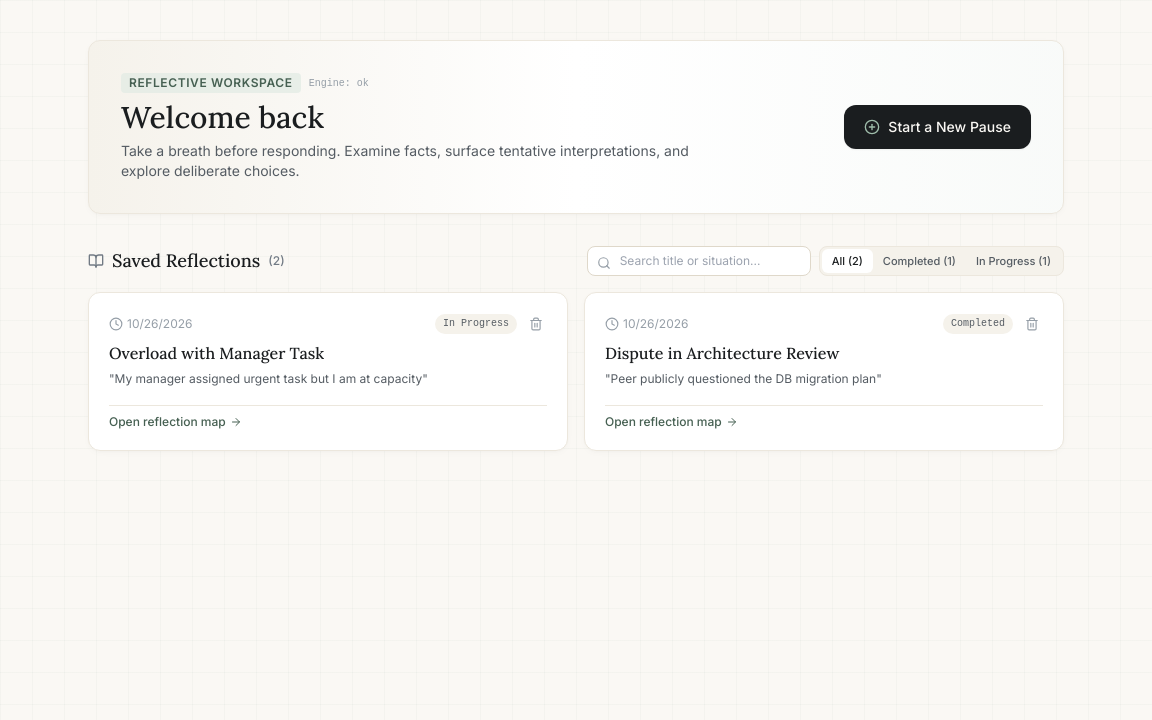
Test case: DashboardPage › filters reflections by status tab
Check: the heading "Overload with Manager Task" is shown, box [109,343,324,363]
# Filter by completed
Click the button "Completed (1)" at (919, 261), box [873,249,966,273]
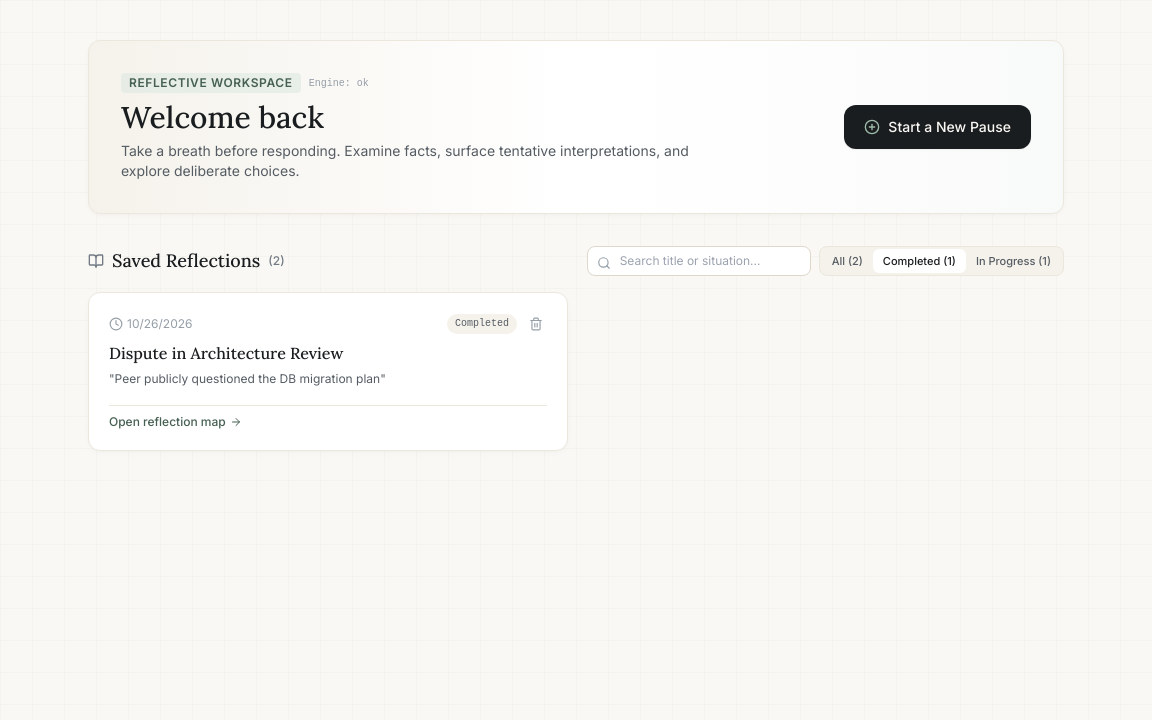
Check: the heading "Dispute in Architecture Review" is shown, box [109,343,343,363]
Check: the heading "Overload with Manager Task" is gone
# Filter by in progress
Click the button "In Progress (1)" at (1013, 261), box [966,249,1061,273]
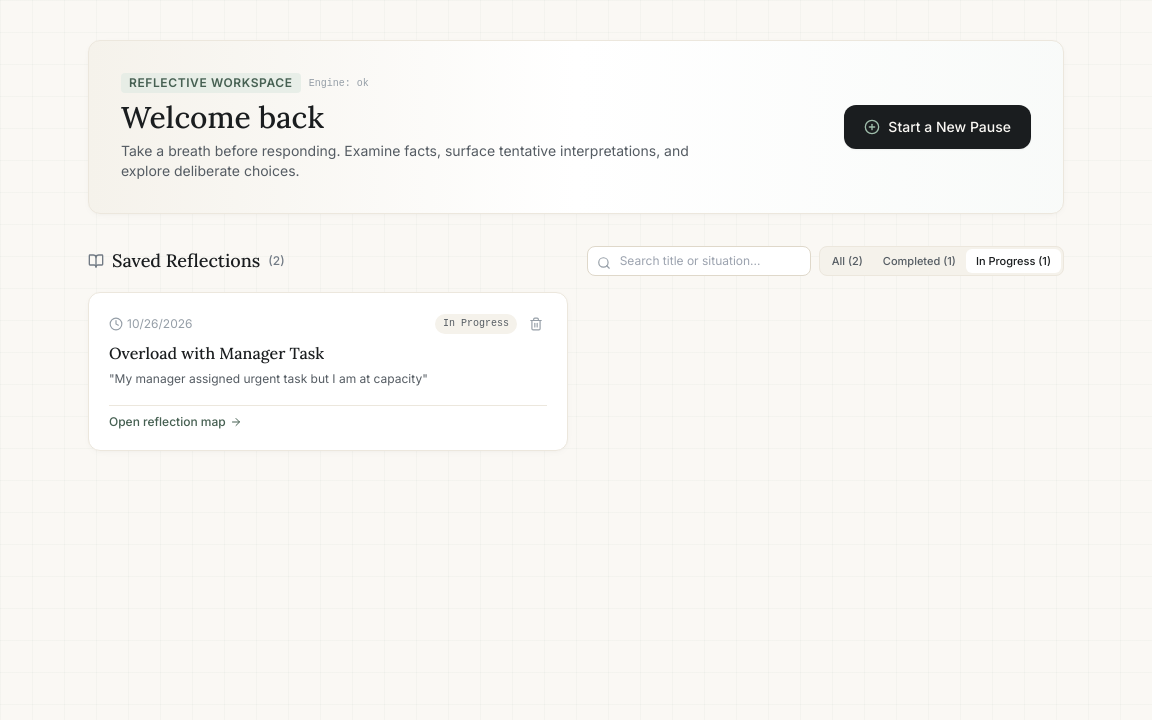
Check: the heading "Overload with Manager Task" is shown, box [109,343,324,363]
Check: the heading "Dispute in Architecture Review" is gone
